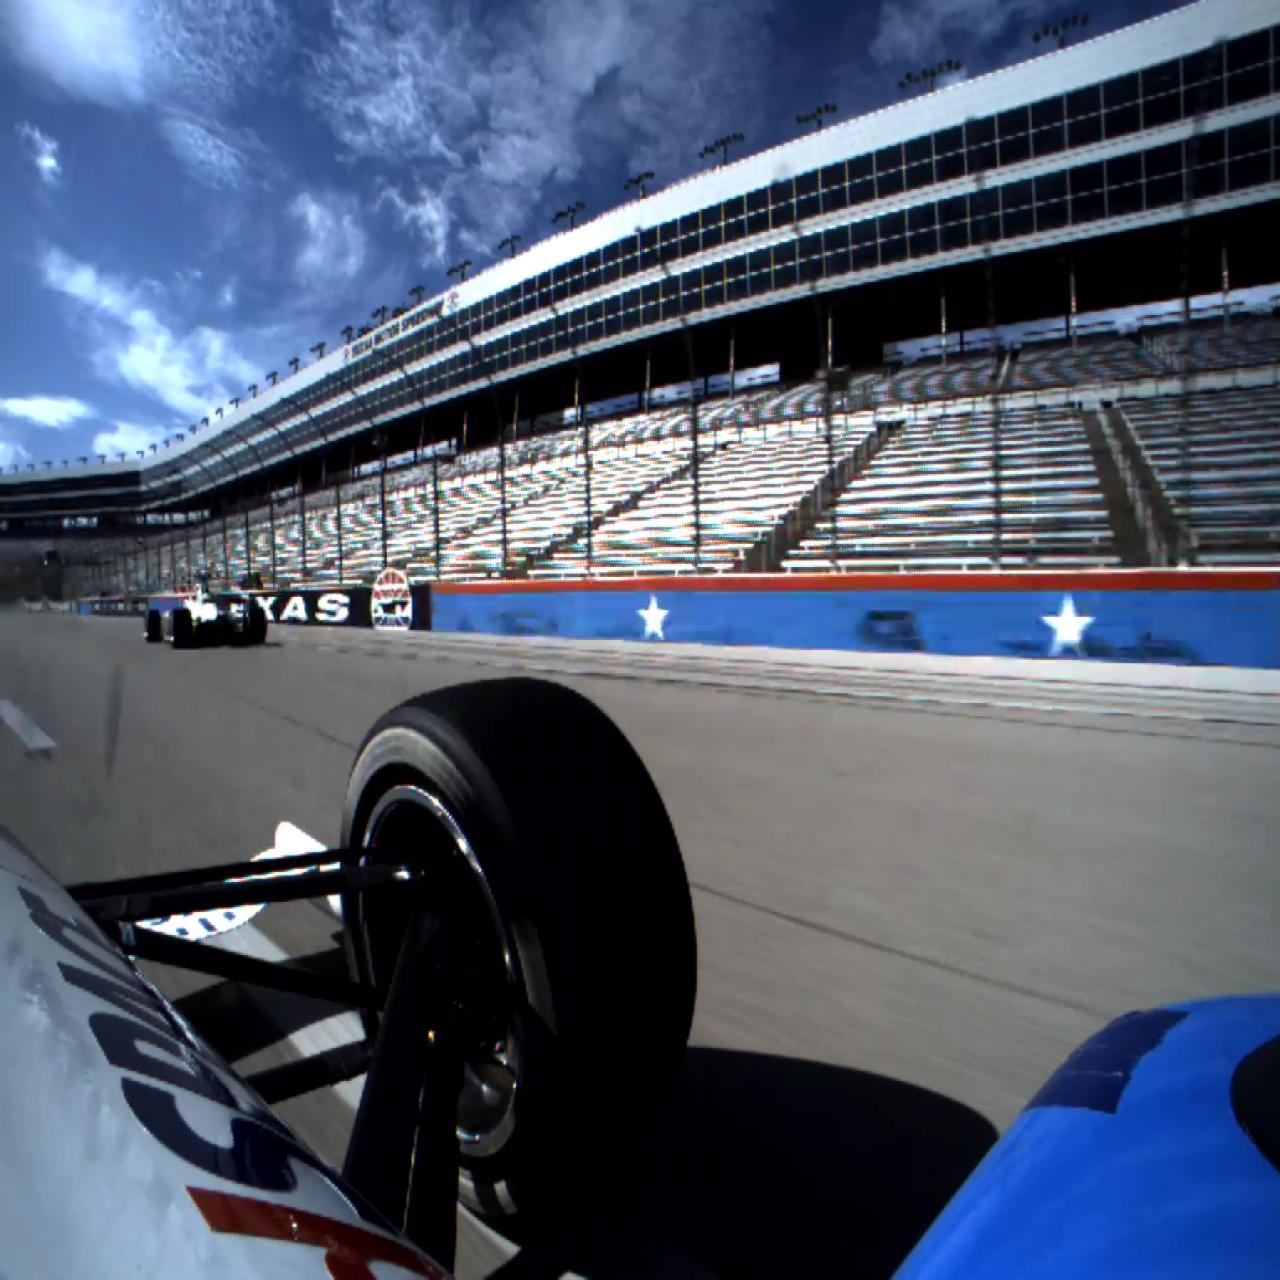AV: (142, 573, 268, 650)
Wheel: (340, 678, 700, 1223), (172, 608, 193, 649), (246, 607, 268, 646), (146, 610, 163, 642)
